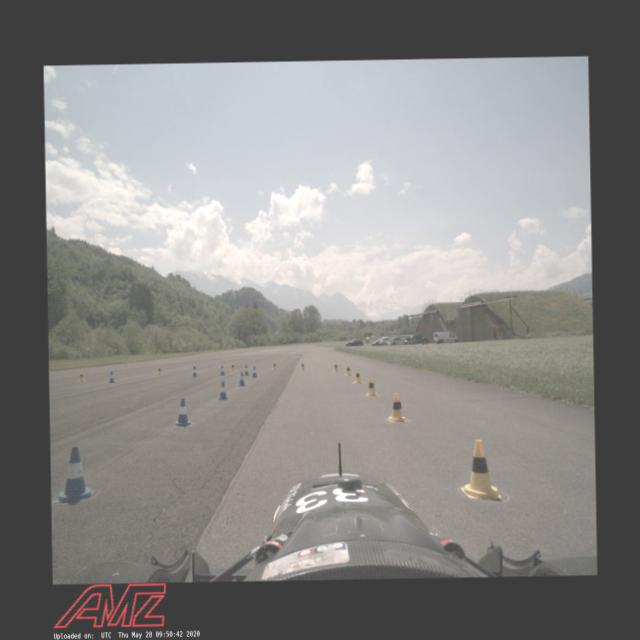blue_cone: (52, 446, 95, 504), (172, 397, 192, 428), (217, 380, 228, 400), (237, 371, 245, 386), (250, 366, 258, 378), (108, 370, 116, 382), (243, 364, 250, 376), (219, 364, 225, 375), (191, 367, 197, 377)
yellow_cone: (459, 439, 502, 499), (386, 392, 406, 422), (364, 376, 377, 396), (353, 368, 362, 384), (344, 364, 351, 376), (78, 370, 84, 382), (332, 362, 338, 372), (300, 361, 306, 371), (230, 362, 236, 372), (192, 362, 198, 372), (156, 365, 162, 375), (272, 360, 277, 370)
